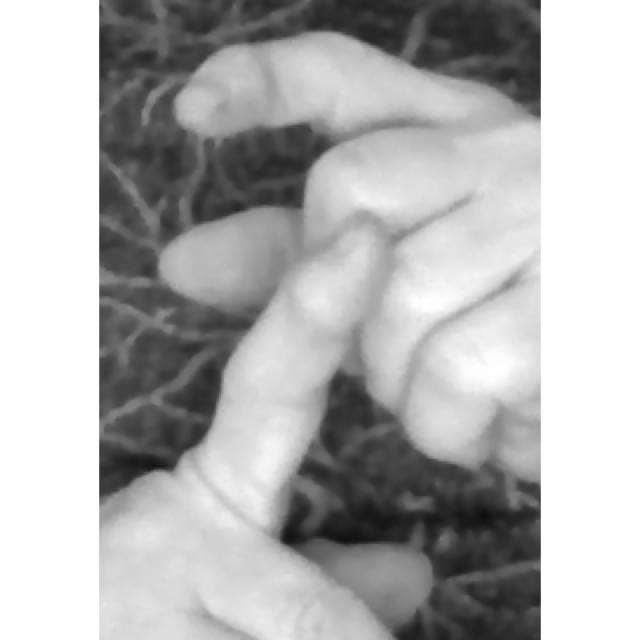C_: (97, 28, 541, 640)
